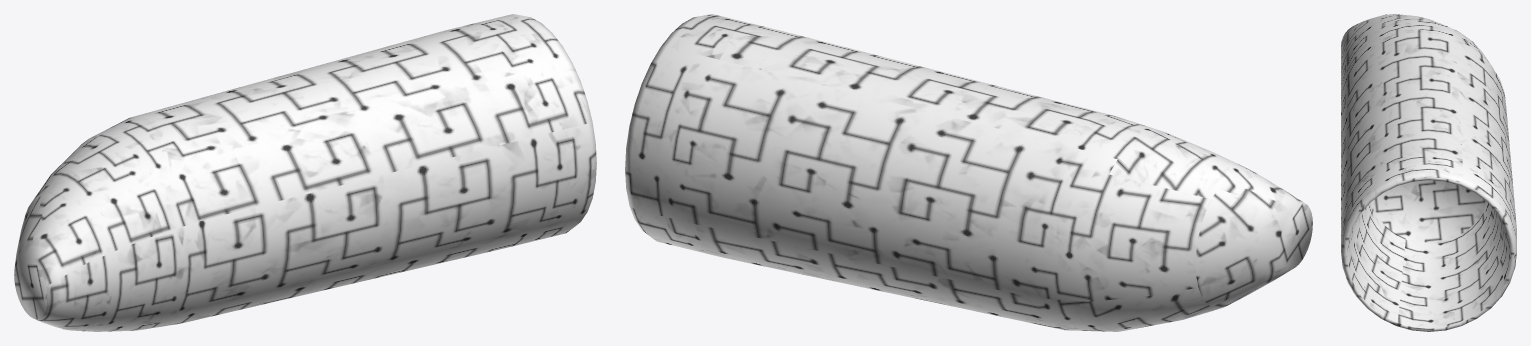
The model's file is Gun.fbx.
3 views of the same model, side by side, from view 1: azimuth 30°, elevation 25°; view 2: azimuth 150°, elevation 25°; view 3: azimuth 270°, elevation 25° (orthographic). The views are drawn at different scales.
Parts seen in each view (by area): view 1: Cylinder; view 2: Cylinder; view 3: Cylinder.
Boxes of the visible parts, box(x1,y1,x2,y2) form: Cylinder: box(14, 14, 596, 331); Cylinder: box(625, 14, 1312, 331); Cylinder: box(1341, 14, 1516, 331).
Bounding box in the file's own units: 112 × 40 × 40.
